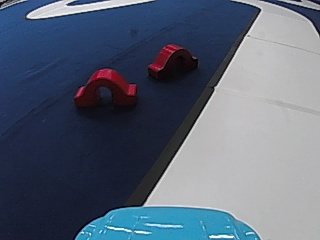bridge: (70, 64, 139, 110), (146, 41, 197, 80)
